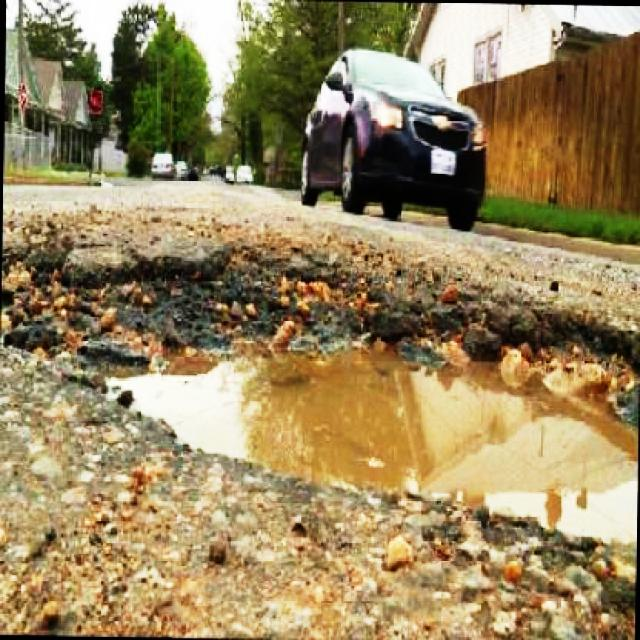pothole: (6, 237, 640, 574)
